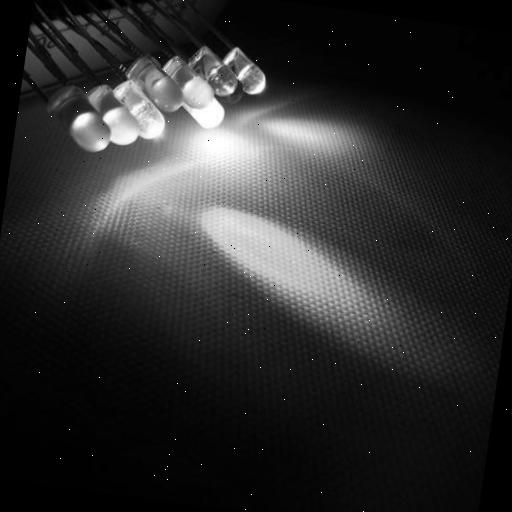LED: (178, 36, 286, 154), (37, 47, 119, 168), (104, 52, 173, 164), (79, 70, 148, 155), (158, 42, 221, 131)
